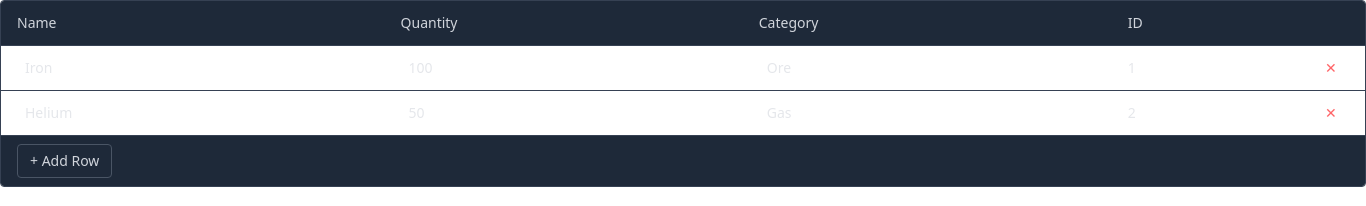
Test: EditableGrid › enters edit mode on cell click
What coordinates should you click on to do the following:
click the button "Iron"
I would click on:
 (39, 68)
Its box is [17, 54, 369, 82].
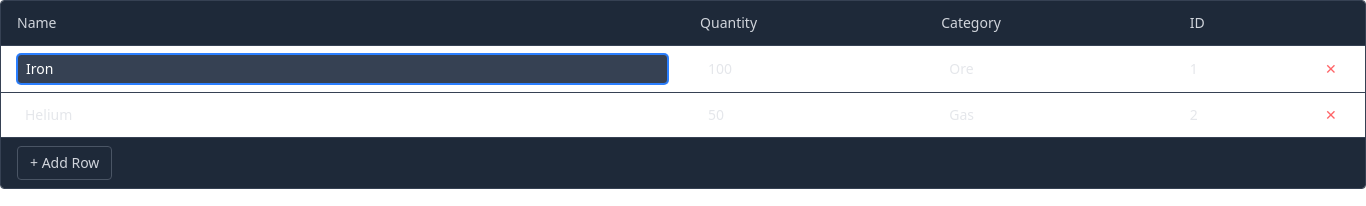
Now the field showing "Iron" is shown, box [17, 54, 668, 84]
